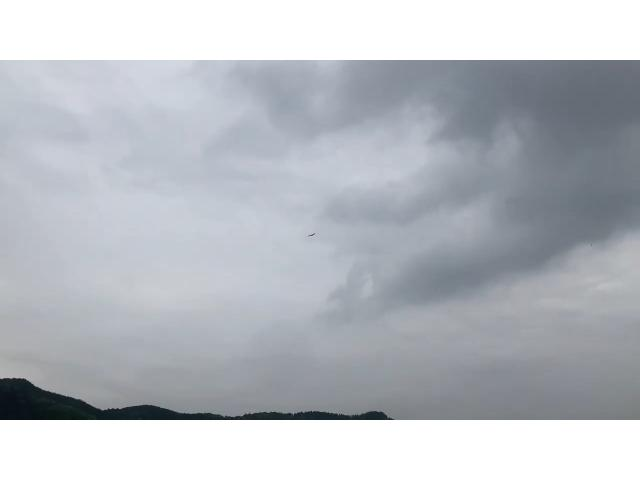Anti-Drone: (304, 224, 324, 244)
